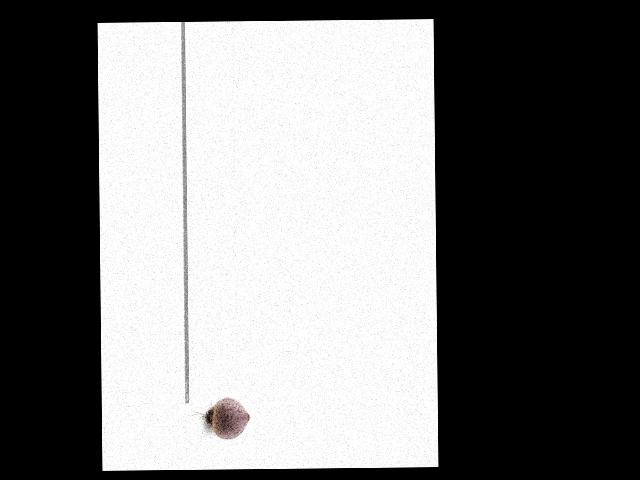beet: (187, 396, 250, 439)
